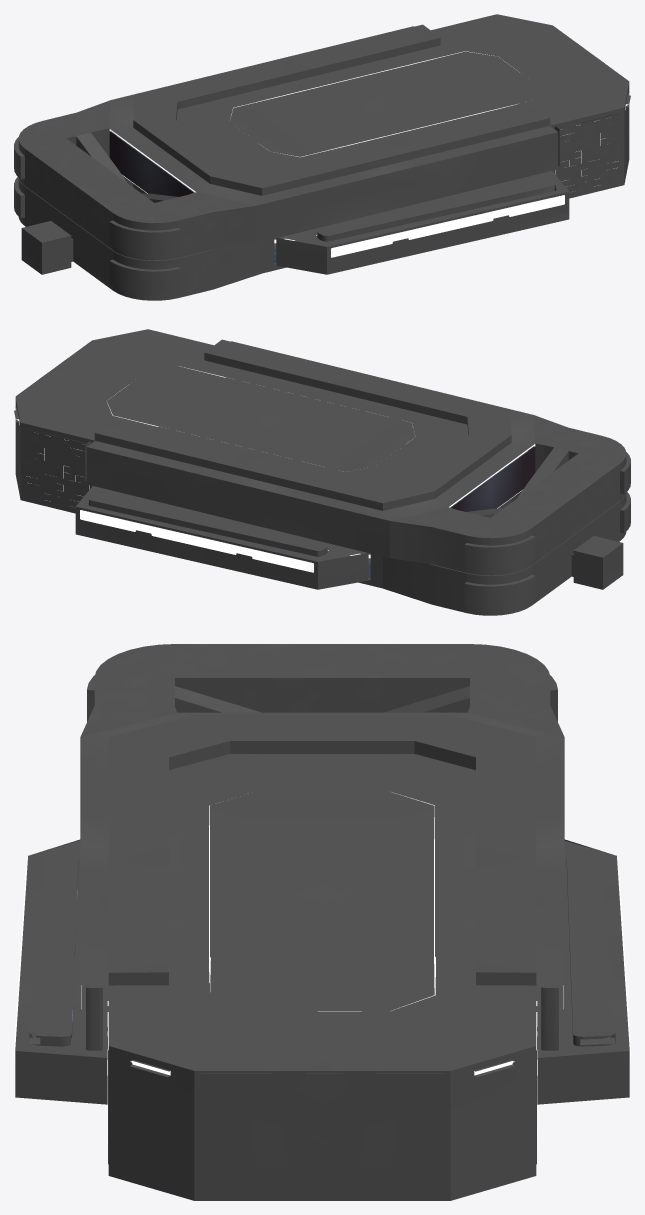
3 views of the same model, one above another, from view 1: azimuth 30°, elevation 25°; view 2: azimuth 150°, elevation 25°; view 3: azimuth 270°, elevation 25° (orthographic). The views are drawn at different scales.
Visible parts, largest first — view 1: Roof top_Baked, Stair Room Main Room_Baked, Main Room Walls .001_Baked, chambers.004_Baked, chambers.001_Baked, Main Room Walls .007_Baked, Elevator Wall_Baked, chambers_Baked, Main Room Walls .002_Baked, Elevator_Baked, Stair Room Walls_Baked, Main Room Walls .008_Baked (+1 smaller); view 2: Roof top_Baked, Stair Room Main Room_Baked, Main Room Walls .001_Baked, chambers.004_Baked, chambers.001_Baked, Main Room Walls .007_Baked, Elevator Wall_Baked, chambers_Baked, Main Room Walls .002_Baked, Elevator_Baked, Stair Room Walls_Baked, Tribune Wall_Baked; view 3: Roof top_Baked, Stair Room Main Room_Baked, Tribune Wall.002_Baked, chambers.001_Baked, Tribune Wall_Baked, chambers_Baked, Main Room Walls .005_Baked, Stair Room Walls_Baked, Main Room Walls .012_Baked, Main Room Walls .001_Baked.
Part boxes in pixels (x1=…): Roof top_Baked: x1=109, y1=14, x2=628, y2=205; Stair Room Main Room_Baked: x1=14, y1=100, x2=261, y2=300; Main Room Walls .001_Baked: x1=111, y1=131, x2=558, y2=242; chambers.004_Baked: x1=327, y1=191, x2=569, y2=274; chambers.001_Baked: x1=280, y1=171, x2=568, y2=246; Main Room Walls .007_Baked: x1=550, y1=107, x2=624, y2=198; Elevator Wall_Baked: x1=25, y1=187, x2=112, y2=290; chambers_Baked: x1=262, y1=187, x2=569, y2=274; Main Room Walls .002_Baked: x1=109, y1=129, x2=195, y2=196; Elevator_Baked: x1=21, y1=221, x2=73, y2=274; Stair Room Walls_Baked: x1=66, y1=130, x2=177, y2=202; Main Room Walls .008_Baked: x1=230, y1=51, x2=519, y2=157; Roof top_Baked: x1=15, y1=329, x2=535, y2=520; Stair Room Main Room_Baked: x1=383, y1=415, x2=630, y2=615; Main Room Walls .001_Baked: x1=86, y1=446, x2=533, y2=557; chambers.004_Baked: x1=75, y1=506, x2=317, y2=589; chambers.001_Baked: x1=76, y1=486, x2=364, y2=561; Main Room Walls .007_Baked: x1=20, y1=422, x2=94, y2=513; Elevator Wall_Baked: x1=532, y1=502, x2=619, y2=605; chambers_Baked: x1=75, y1=503, x2=382, y2=589; Main Room Walls .002_Baked: x1=449, y1=444, x2=535, y2=511; Elevator_Baked: x1=571, y1=536, x2=623, y2=589; Stair Room Walls_Baked: x1=467, y1=445, x2=578, y2=517; Tribune Wall_Baked: x1=14, y1=398, x2=20, y2=499; Roof top_Baked: x1=80, y1=712, x2=564, y2=1070; Stair Room Main Room_Baked: x1=80, y1=644, x2=564, y2=737; Tribune Wall.002_Baked: x1=194, y1=1071, x2=450, y2=1200; chambers.001_Baked: x1=15, y1=841, x2=629, y2=1057; Tribune Wall_Baked: x1=108, y1=1046, x2=536, y2=1200; chambers_Baked: x1=15, y1=839, x2=629, y2=1104; Main Room Walls .005_Baked: x1=250, y1=1071, x2=397, y2=1200; Stair Room Walls_Baked: x1=175, y1=686, x2=469, y2=712; Main Room Walls .012_Baked: x1=86, y1=987, x2=558, y2=1050; Main Room Walls .001_Baked: x1=80, y1=985, x2=564, y2=1047.
Bounding box in the file's own units: 5106 × 861 × 2911.
Materials: 1 (1 with a texture image).
